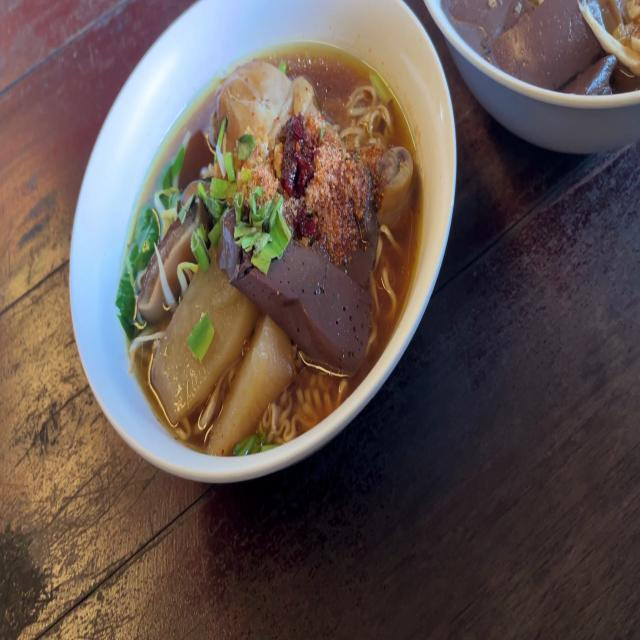noodle: (111, 26, 432, 453), (426, 0, 640, 114)
